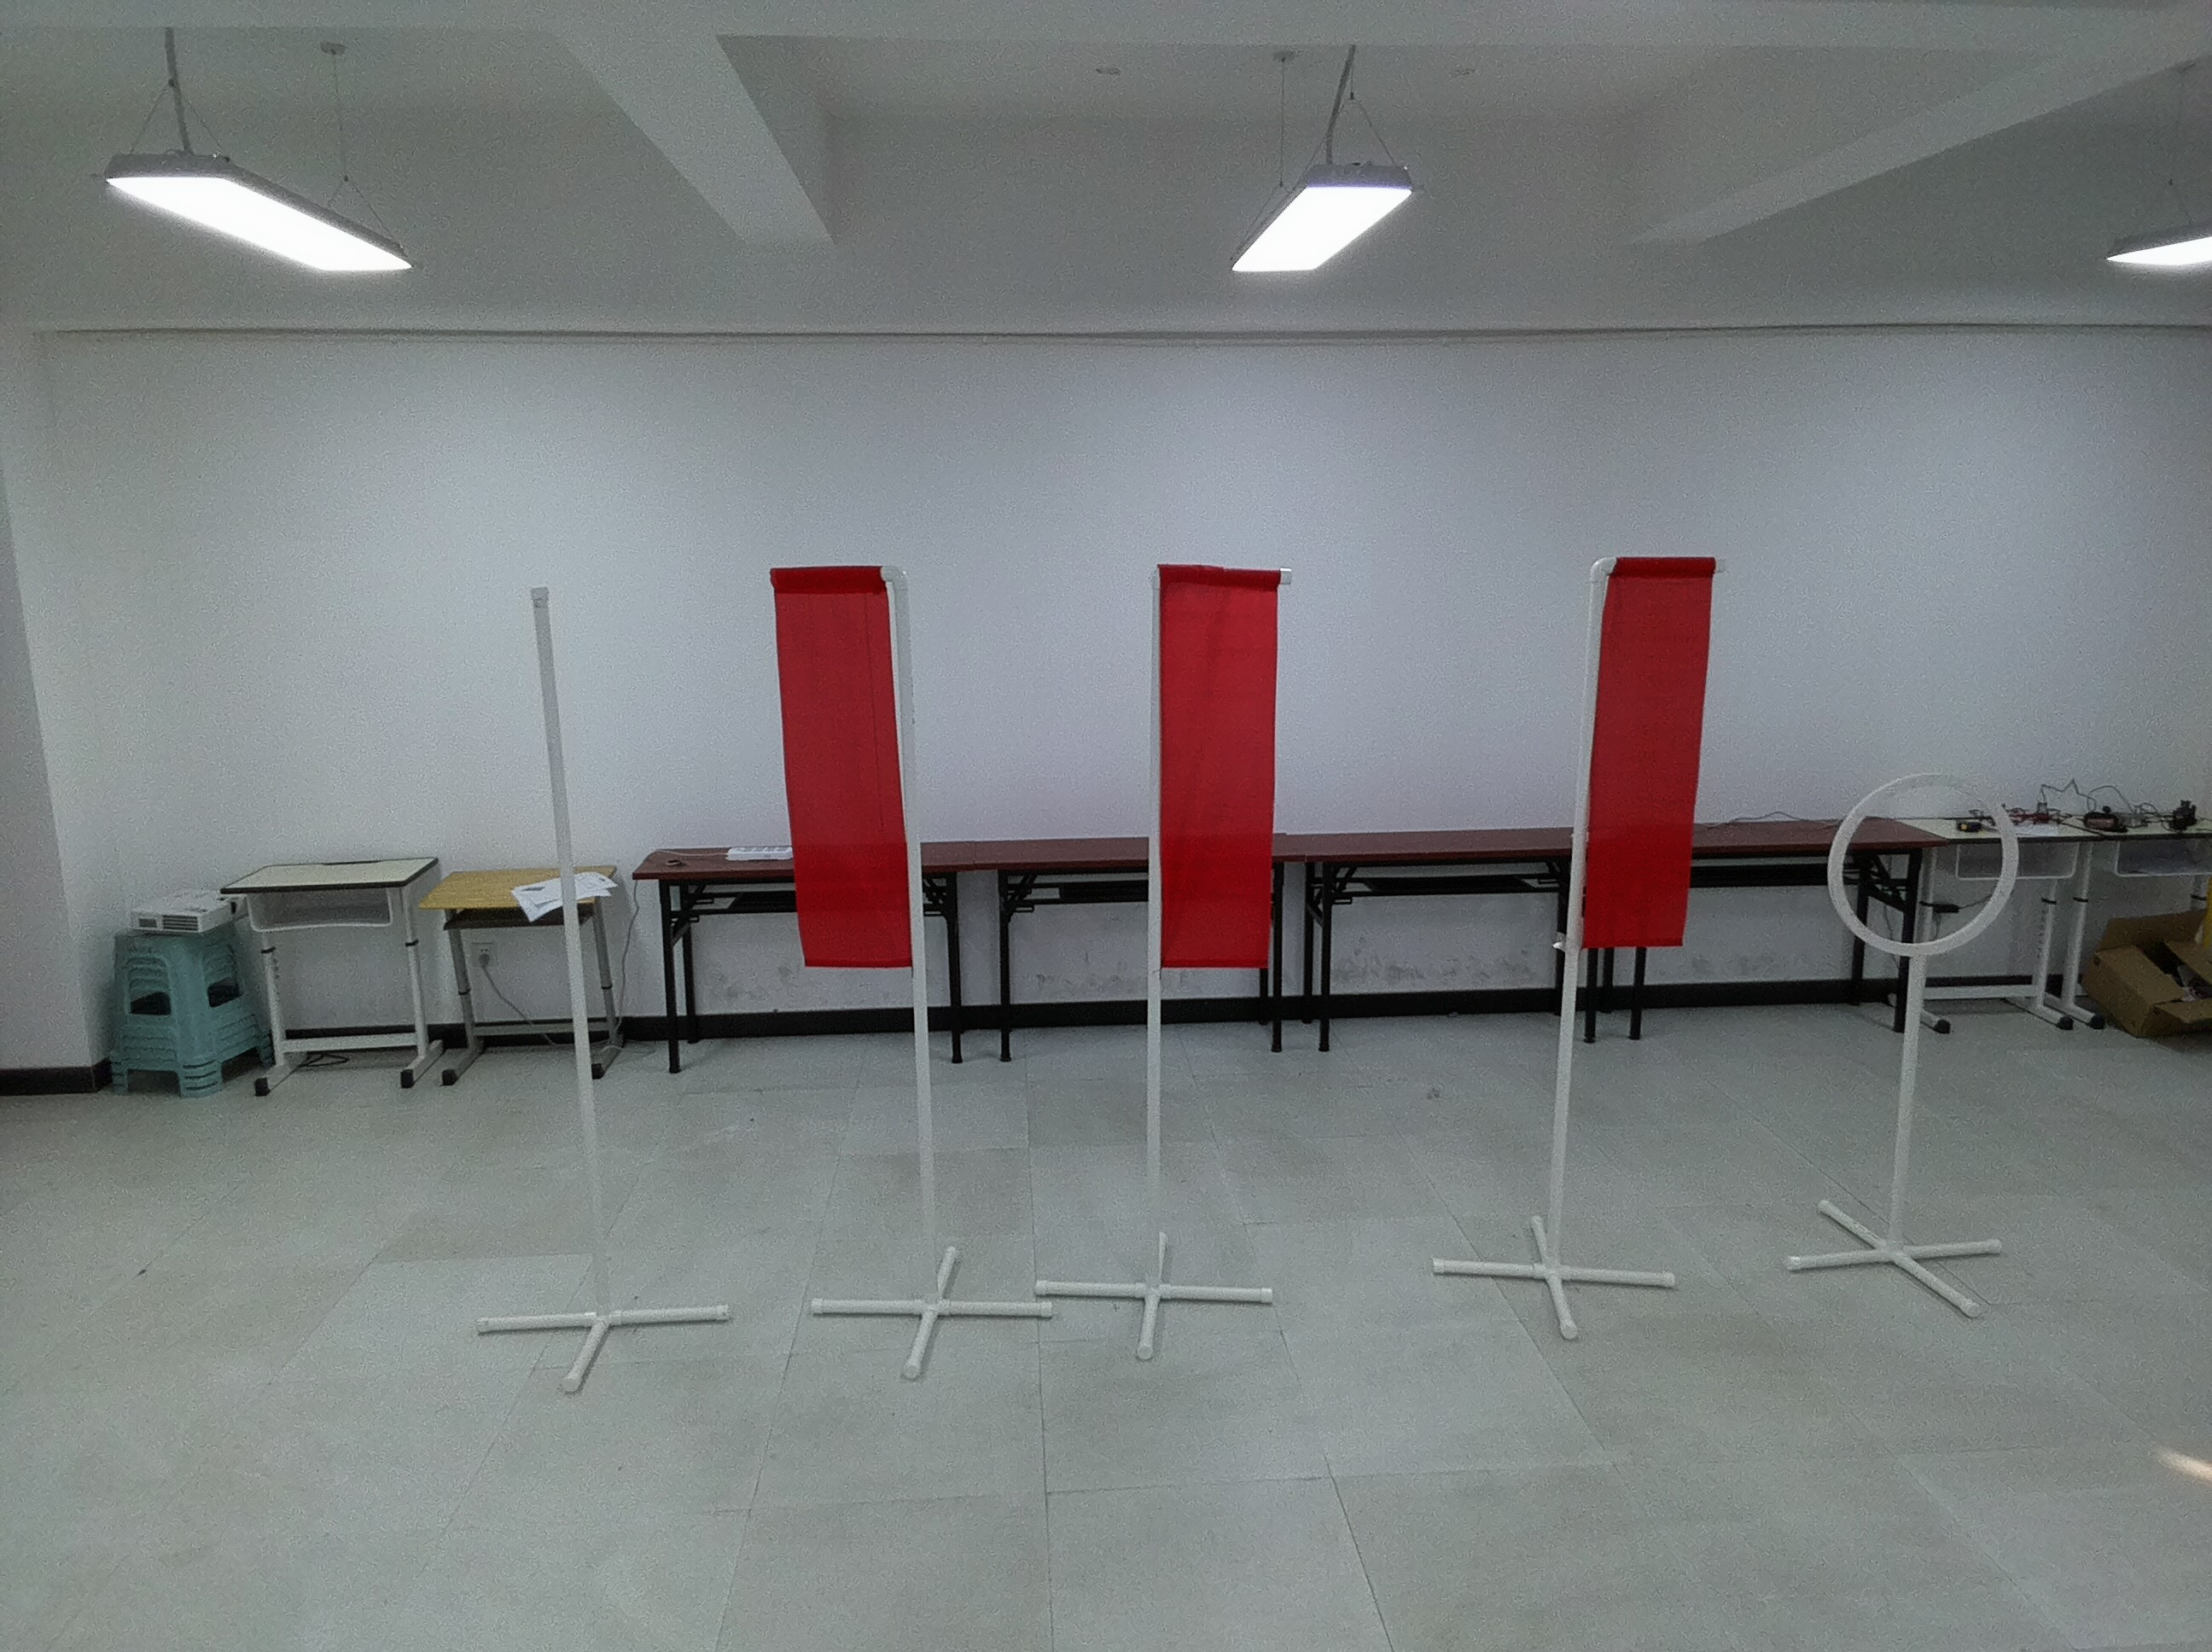gan: (520, 567, 618, 1239)
qi: (755, 552, 939, 1010), (1554, 548, 1733, 989), (1140, 548, 1289, 1006)
quan: (1823, 770, 2019, 1010)
